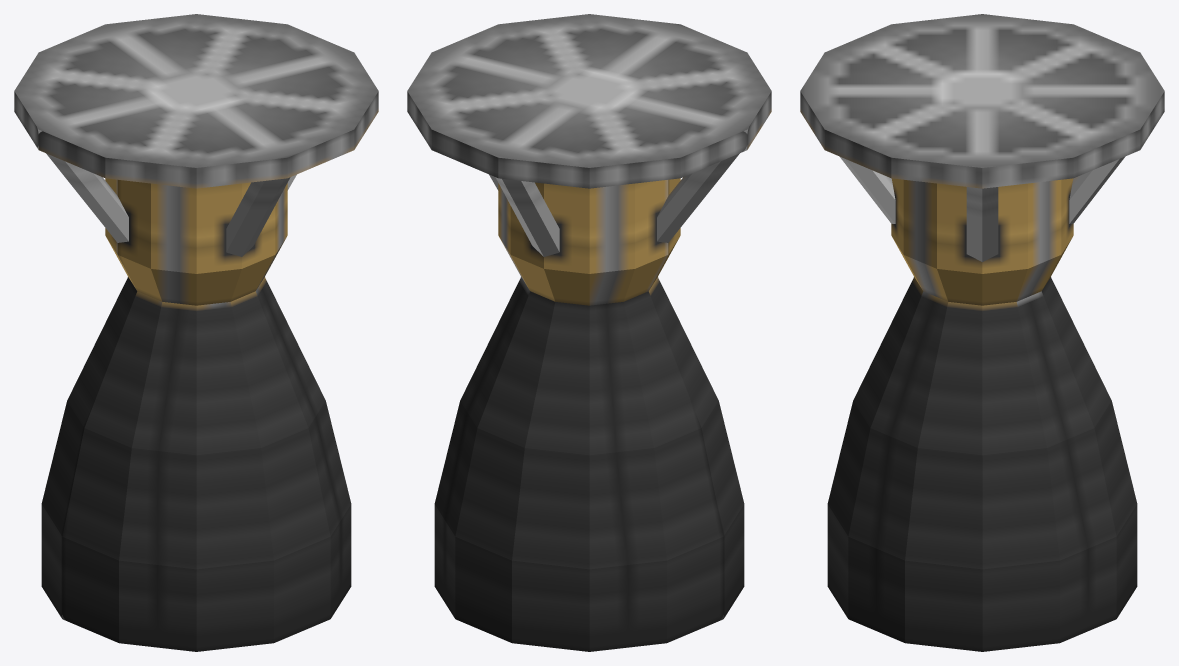
File: mp_t_20_kerosene.obj
3 renders of one model, left to right at view 1: azimuth 30°, elevation 25°; view 2: azimuth 150°, elevation 25°; view 3: azimuth 270°, elevation 25°, orthographic.
Visible parts, largest first — view 1: Cylinder; view 2: Cylinder; view 3: Cylinder.
Boxes of the visible parts, box(x1,y1,x2,y2) form: Cylinder: box(14, 14, 378, 651); Cylinder: box(407, 14, 771, 651); Cylinder: box(800, 14, 1164, 651).
Size of the model in its own units: 2 by 3 by 2.
